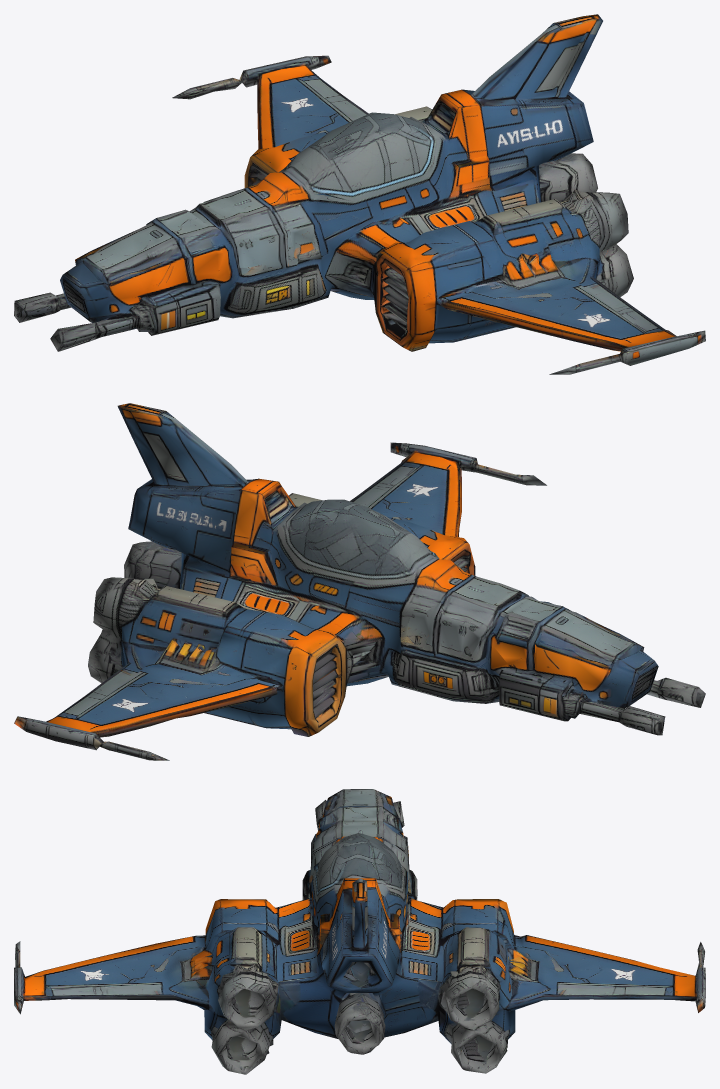
File: Meshy_AI_Starhawk_01_0331051011_texture.glb
The picture shows the model from 3 angles, top to bottom: view 1: azimuth 30°, elevation 25°; view 2: azimuth 150°, elevation 25°; view 3: azimuth 270°, elevation 25°; orthographic projection. The views are drawn at different scales.
Parts seen in each view (by area): view 1: Mesh_0; view 2: Mesh_0; view 3: Mesh_0.
Boxes of the visible parts, x1,y1,x2,y2 form: Mesh_0: (14, 14, 705, 374); Mesh_0: (14, 403, 705, 760); Mesh_0: (14, 789, 705, 1074).
Bounding box in the file's own units: 1.62 × 0.62 × 1.91.
1 material, 1 textured.
